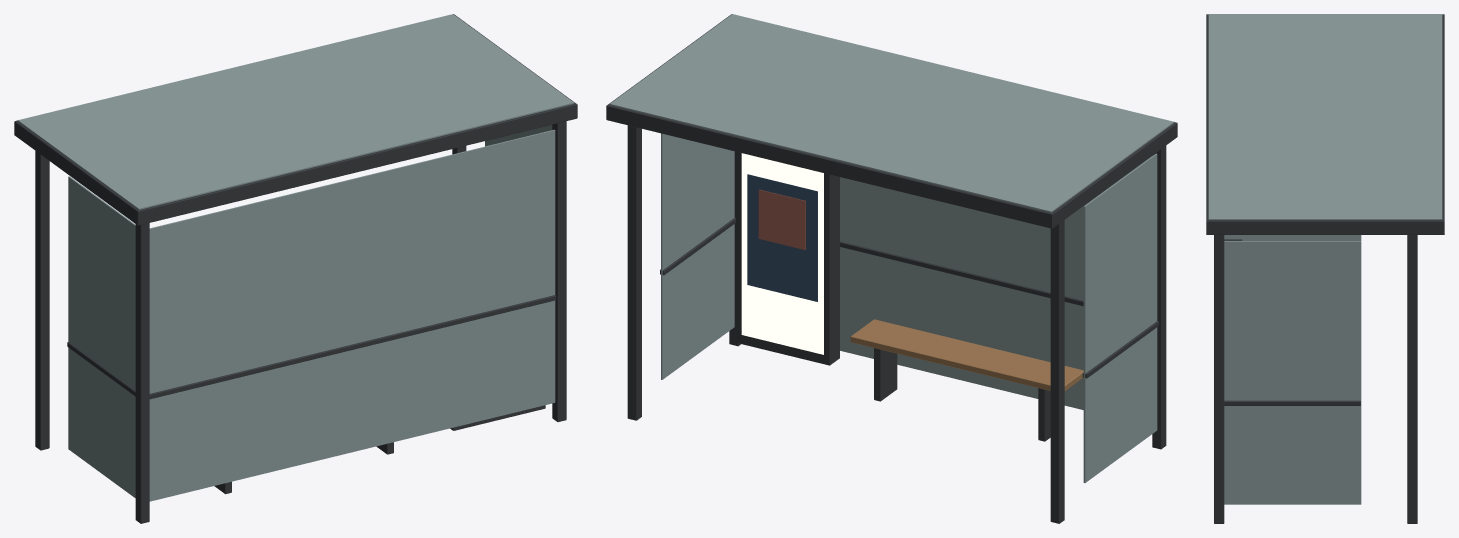
The model's file is prop_bus_shelter.glb.
3 views of the same model, side by side, from view 1: azimuth 30°, elevation 25°; view 2: azimuth 150°, elevation 25°; view 3: azimuth 270°, elevation 25° (orthographic). The views are drawn at different scales.
Parts seen in each view (by area): view 1: Shelter; view 2: Shelter; view 3: Shelter.
Boxes of the visible parts, <box> form: Shelter: <box>14,14,577,523</box>; Shelter: <box>606,14,1177,523</box>; Shelter: <box>1206,14,1444,523</box>.
Size of what is drawn, in the model's own units: 3.8 by 2.63 by 1.85.
